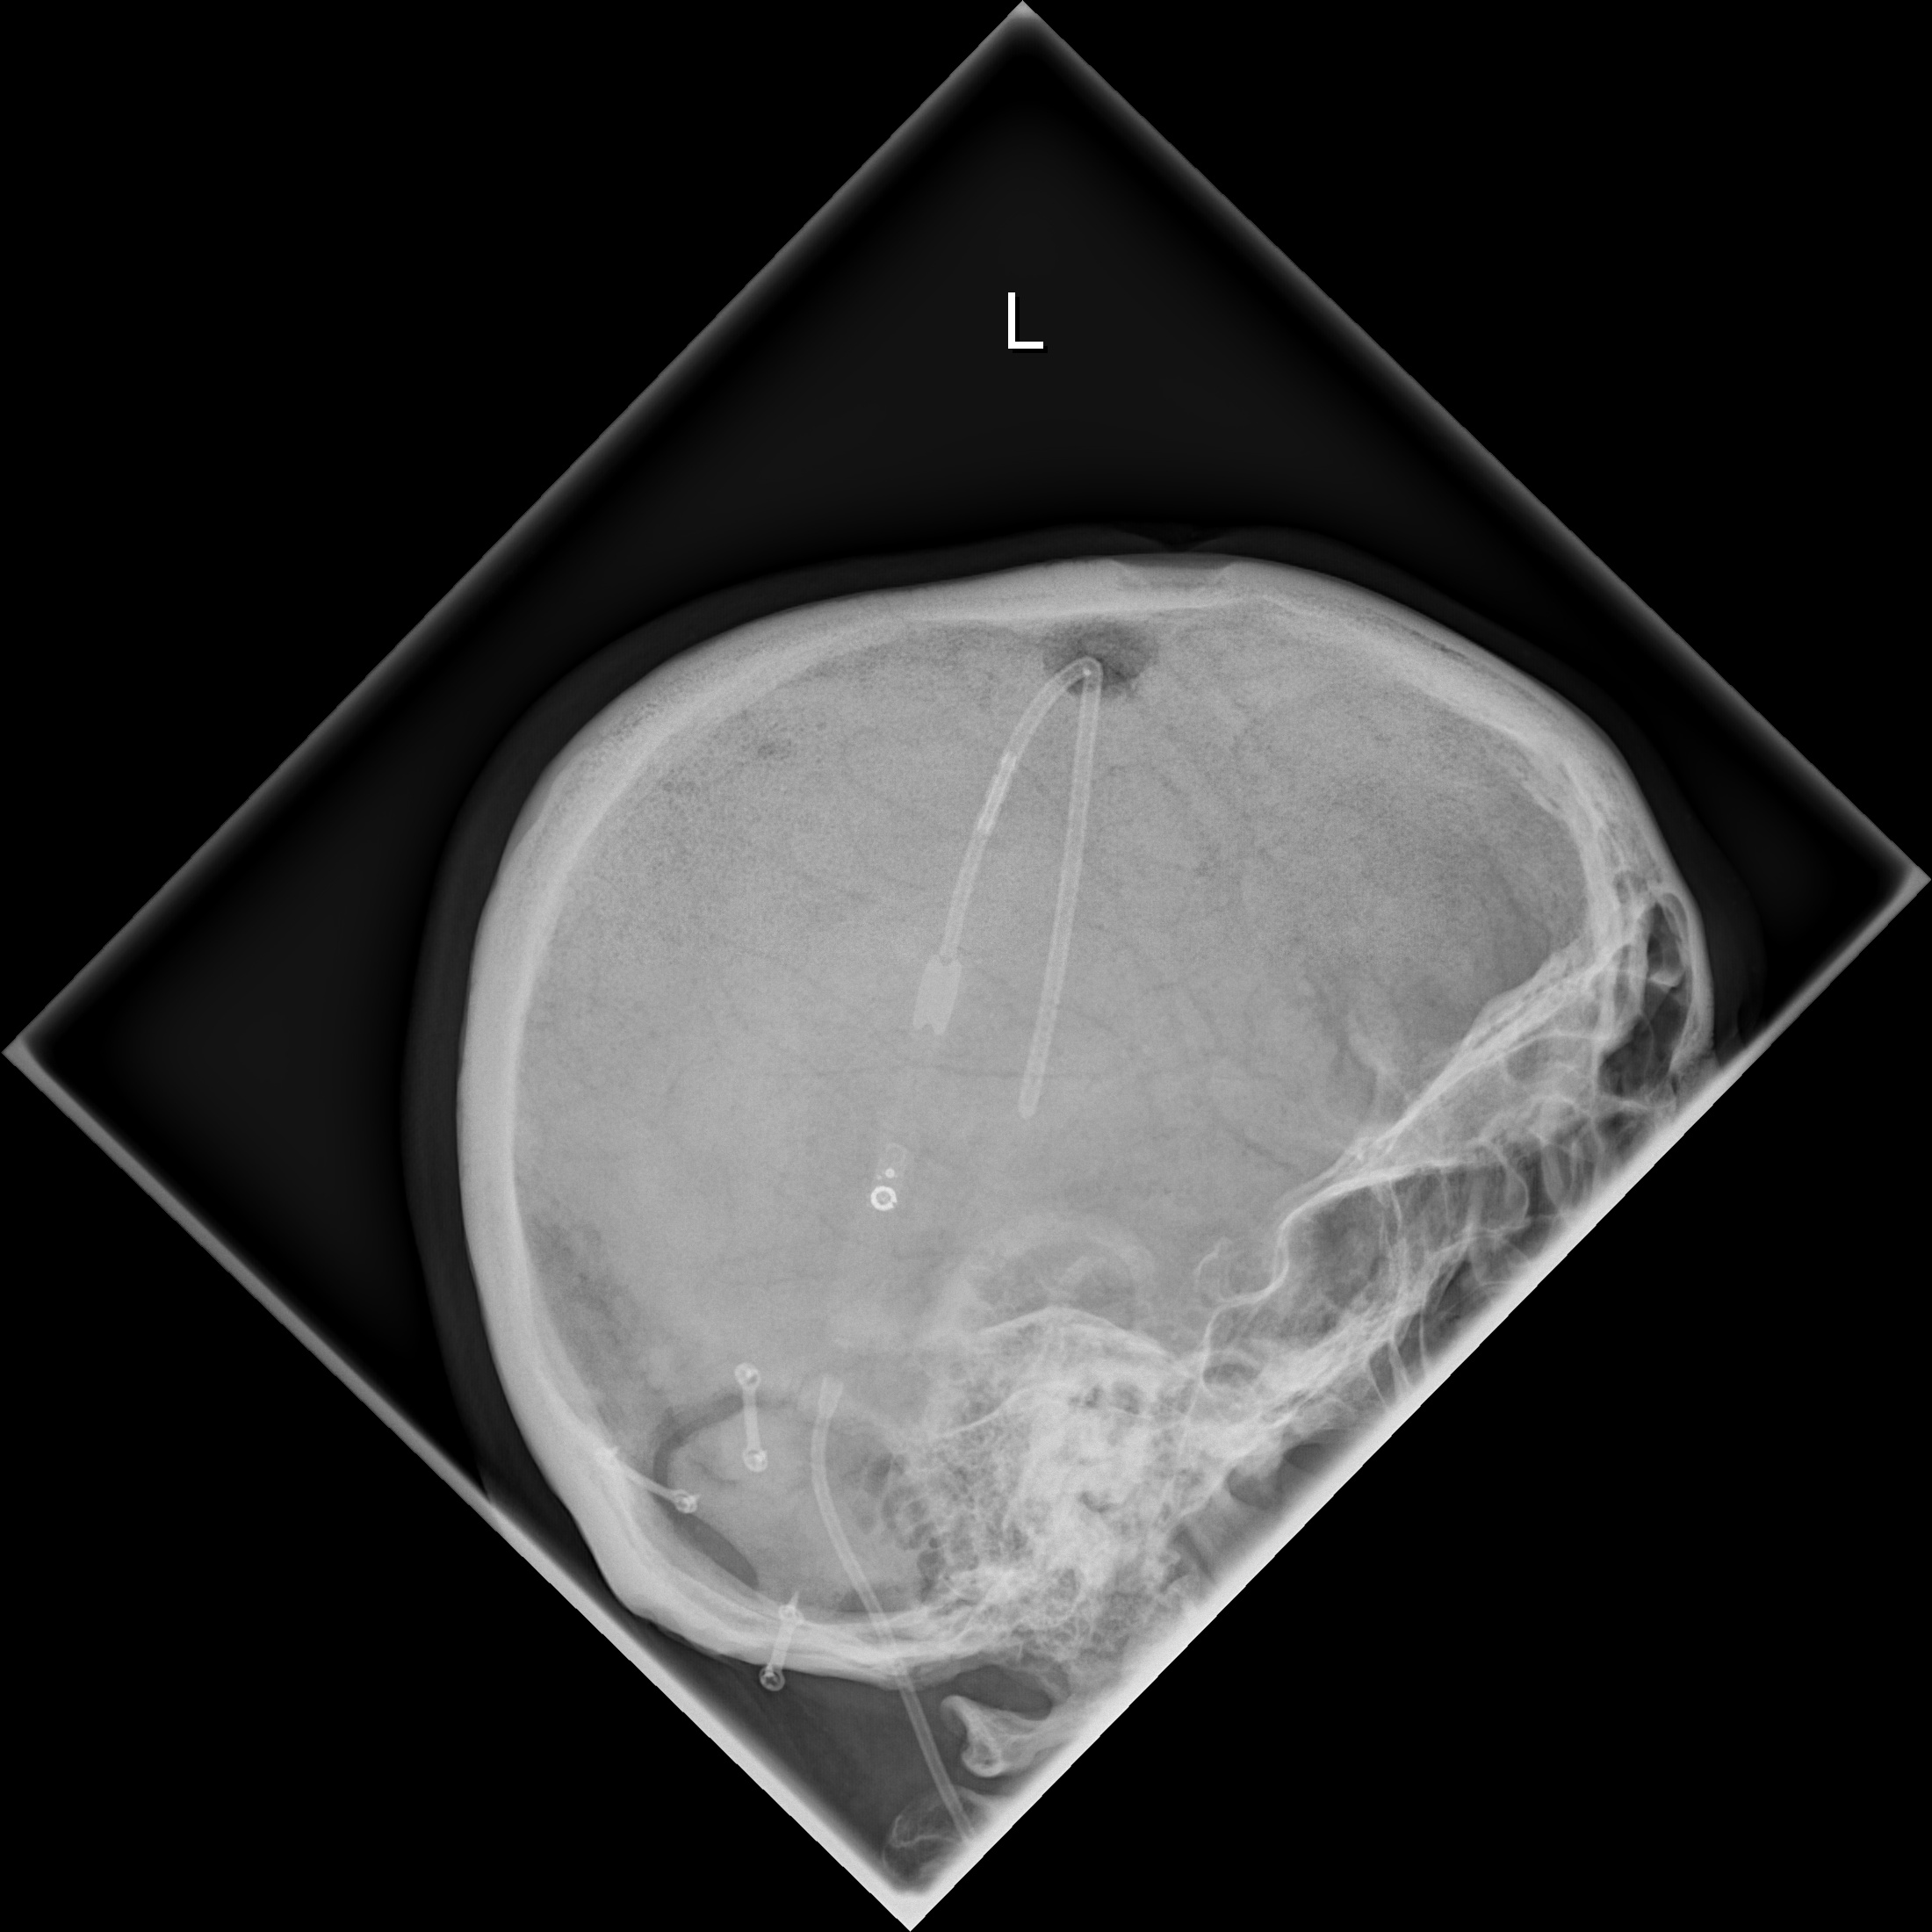Codman Hakim: (867, 1157, 904, 1233)
